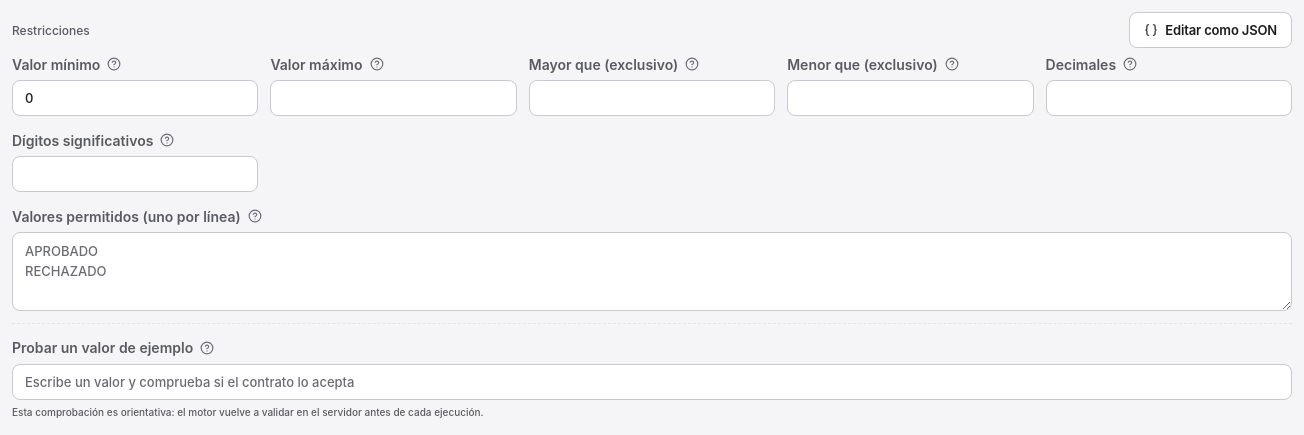
Test: restricciones de una variable › deja volver al JSON crudo, avisando de que el nombre debe ser exacto
Click the button "Editar como JSON".
click(1211, 30)  # box [1129, 12, 1292, 48]
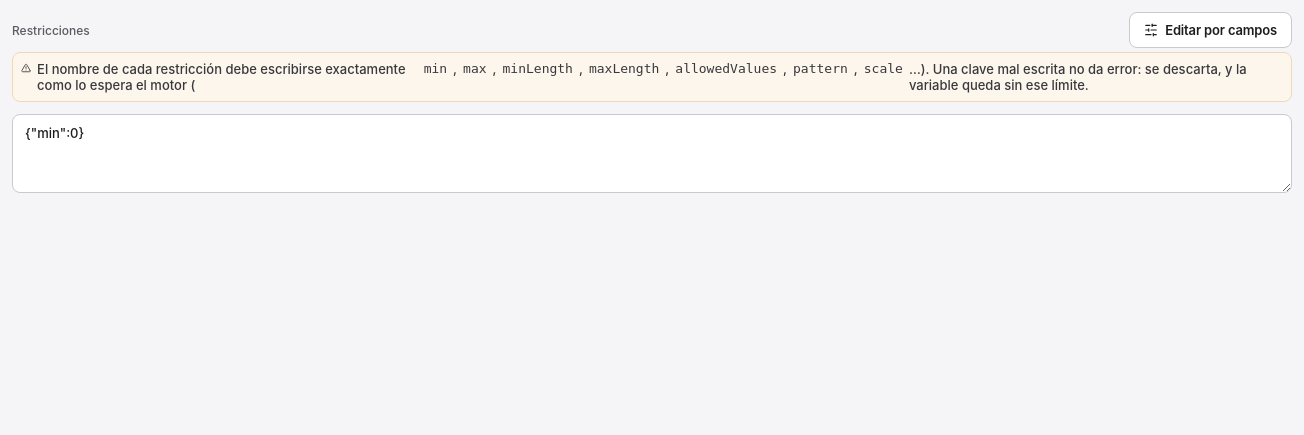
Check: the text box holds "{\"min\":0}", box [12, 114, 1292, 192]
